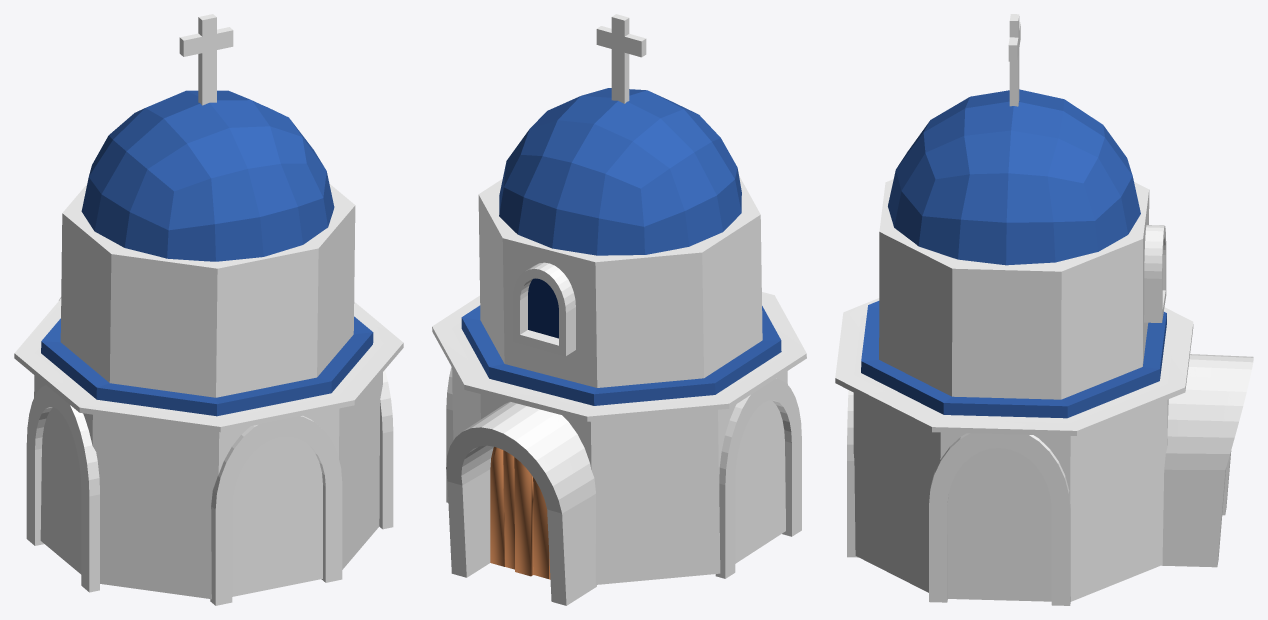
The model's file is church_02.fbx.
3 views of the same model, side by side, from view 1: azimuth 30°, elevation 25°; view 2: azimuth 150°, elevation 25°; view 3: azimuth 270°, elevation 25° (orthographic). The views are drawn at different scales.
Parts seen in each view (by area): view 1: church_02; view 2: church_02; view 3: church_02.
Part boxes in pixels (box(x1,y1,x2,y2)): church_02: box(14, 14, 403, 605); church_02: box(432, 14, 806, 605); church_02: box(835, 14, 1253, 605).
Size of the model in its own units: 983 by 1501 by 1106.
Materials: 1 (1 with a texture image).
